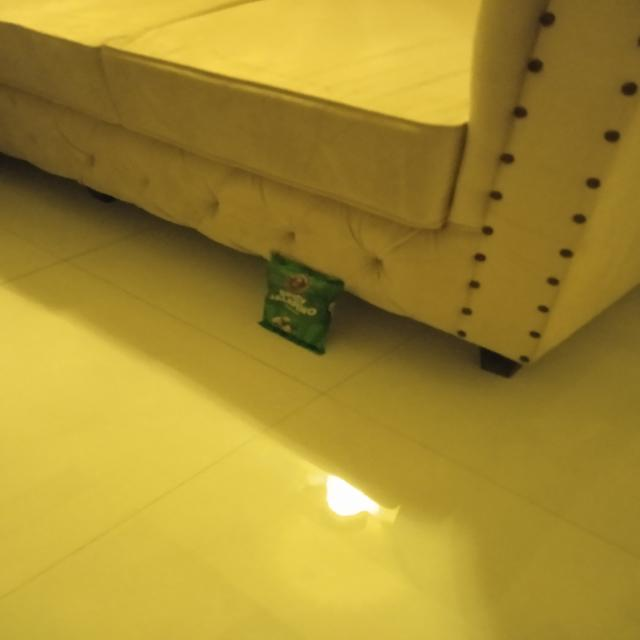Plastic: (254, 248, 345, 358)
